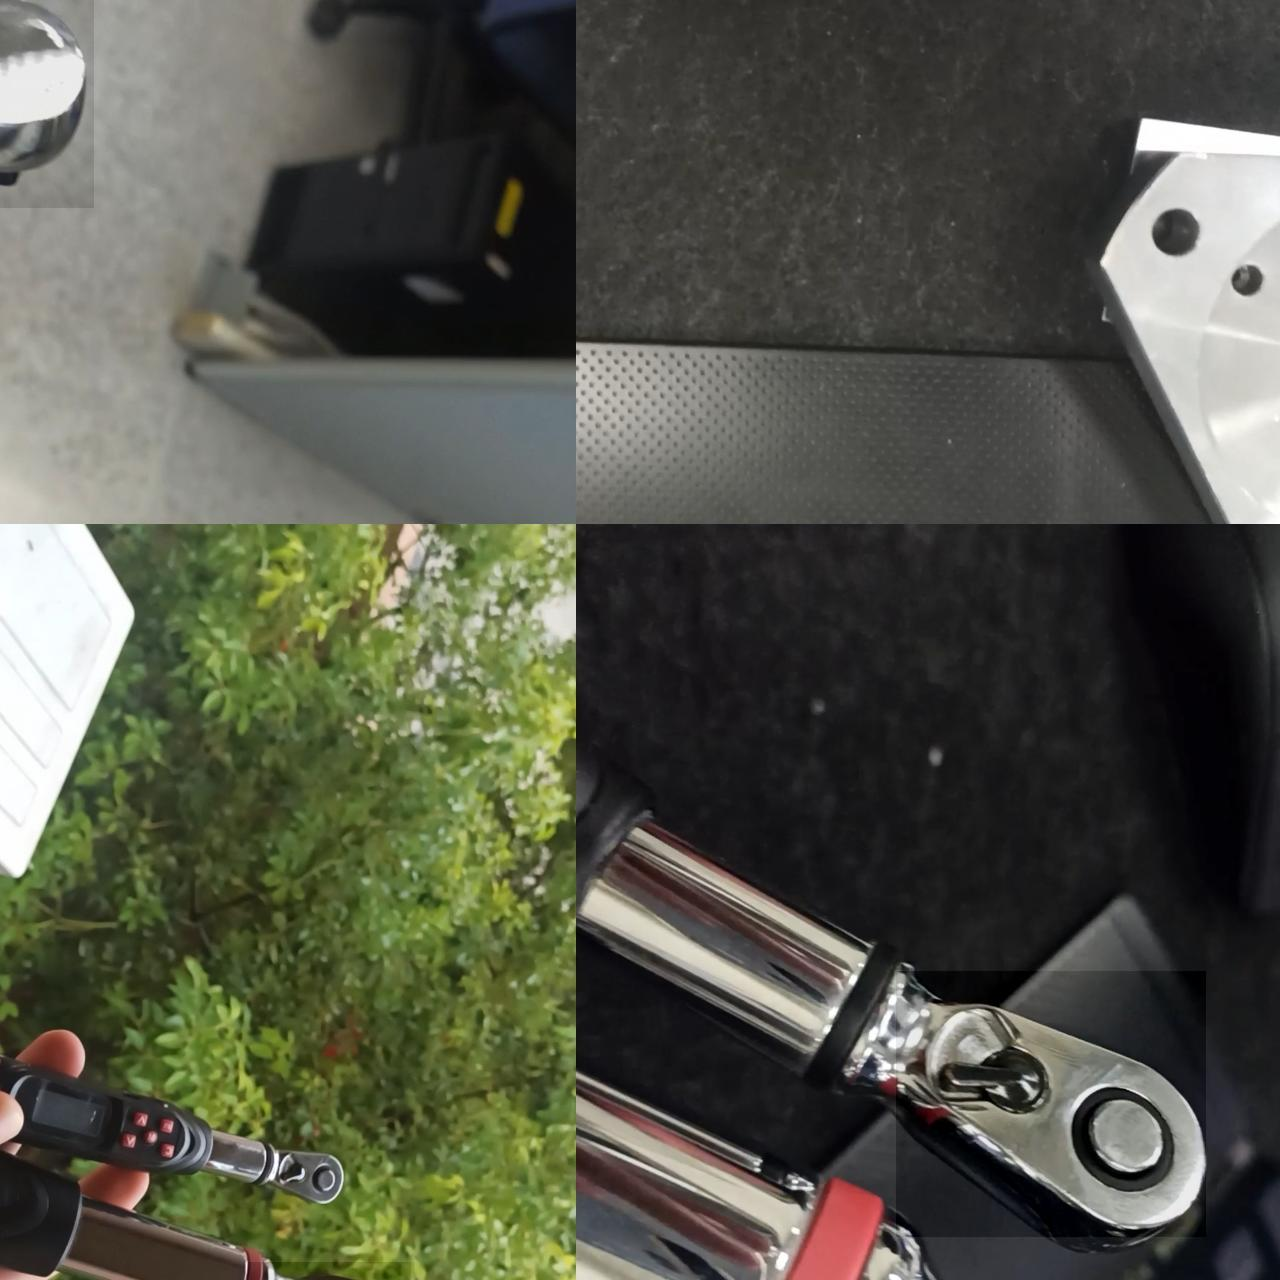Tool: (896, 971, 1205, 1235), (0, 0, 93, 207), (265, 1149, 343, 1205)
